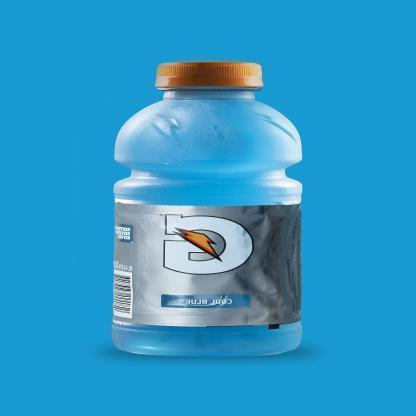bottle: (95, 54, 316, 366)
